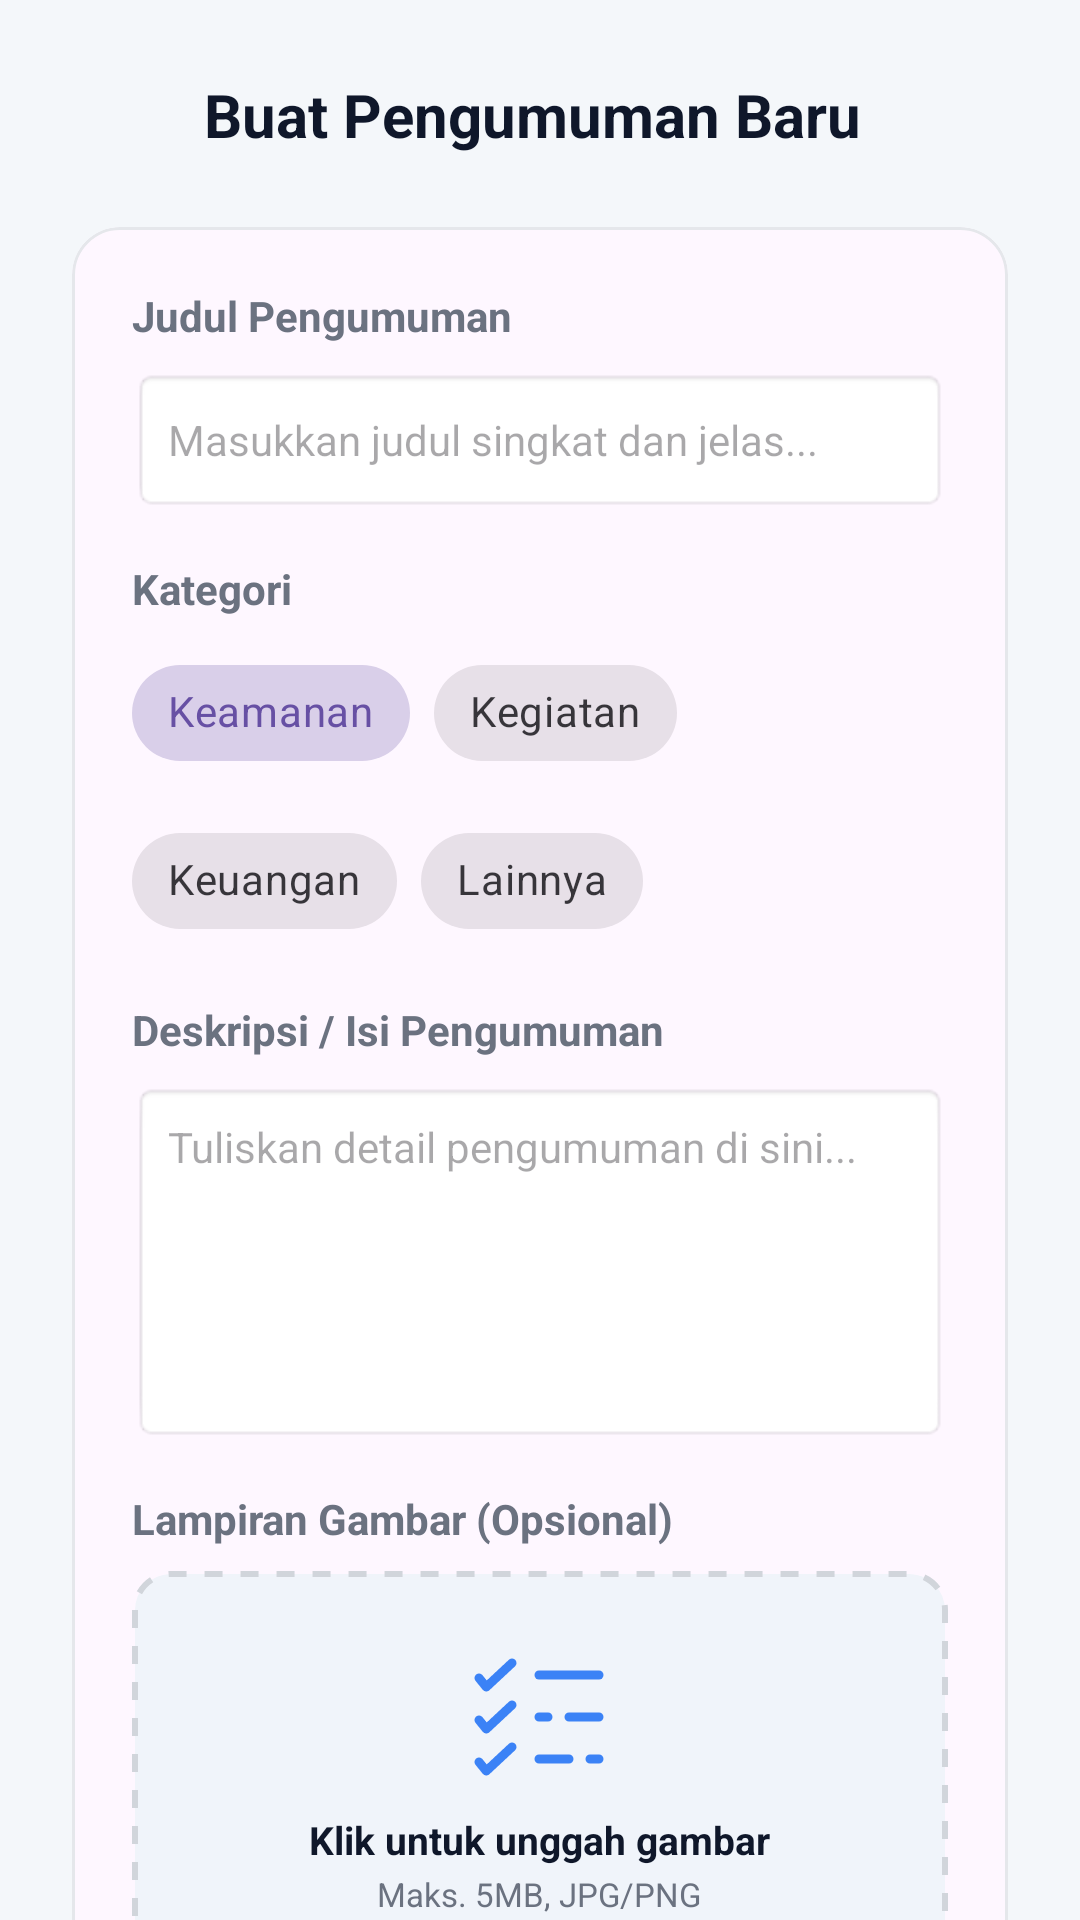

Locate icon controls on the screen. Image size 1080 x 1920, boxes as BBox(x1, y1, x2, y2).
approval: BBox(474, 1658, 604, 1776)
